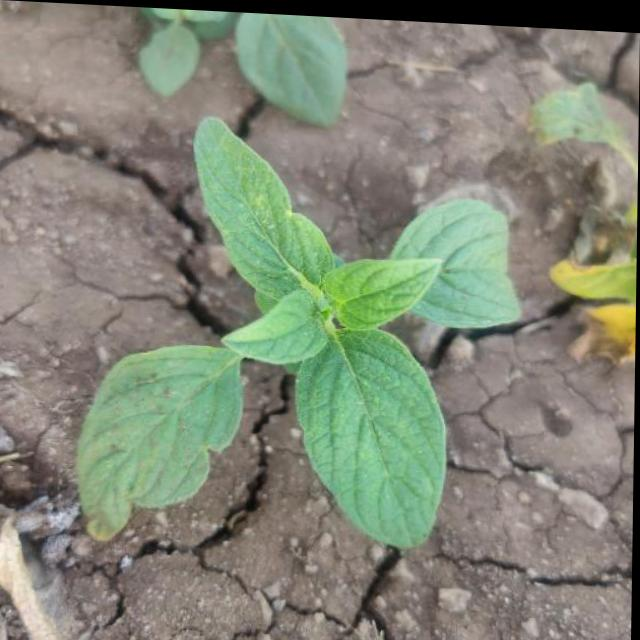crop: (67, 130, 546, 581)
